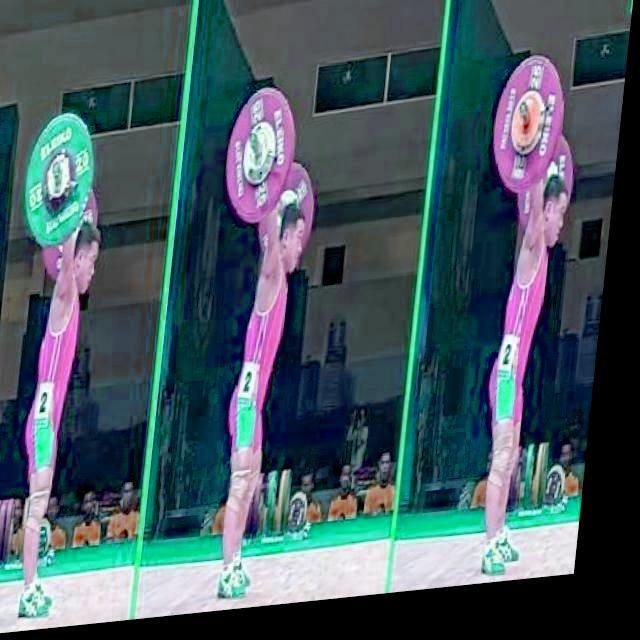barbell: (221, 85, 307, 238), (490, 58, 575, 207), (22, 111, 105, 255)
